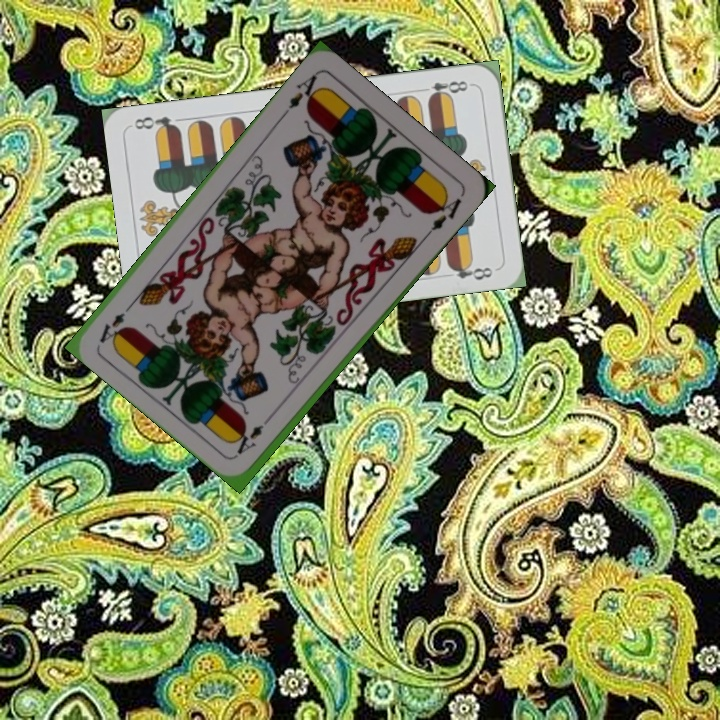E8: (416, 76, 475, 103)
EA: (233, 409, 277, 457), (285, 69, 326, 112)
